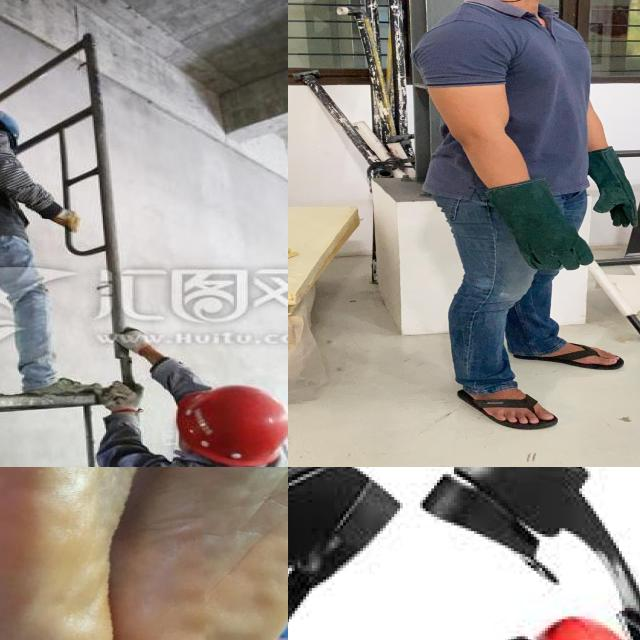Barefoots: (101, 467, 288, 640), (0, 467, 164, 640)
Ear-protection: (288, 467, 640, 640)
hand_glove: (494, 175, 598, 276), (577, 142, 640, 228), (92, 379, 147, 413), (107, 321, 151, 356), (52, 202, 82, 236)
head_helmet: (172, 384, 288, 467), (0, 104, 27, 141)
person: (388, 0, 640, 437), (0, 99, 90, 399), (102, 362, 288, 467)
shoes: (15, 365, 95, 400)
